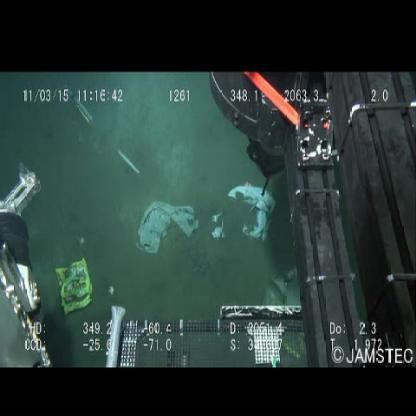Rov: (207, 72, 415, 306), (103, 302, 415, 368), (1, 158, 53, 369)
Rác: (209, 179, 281, 249), (132, 198, 200, 258), (53, 256, 95, 318)
